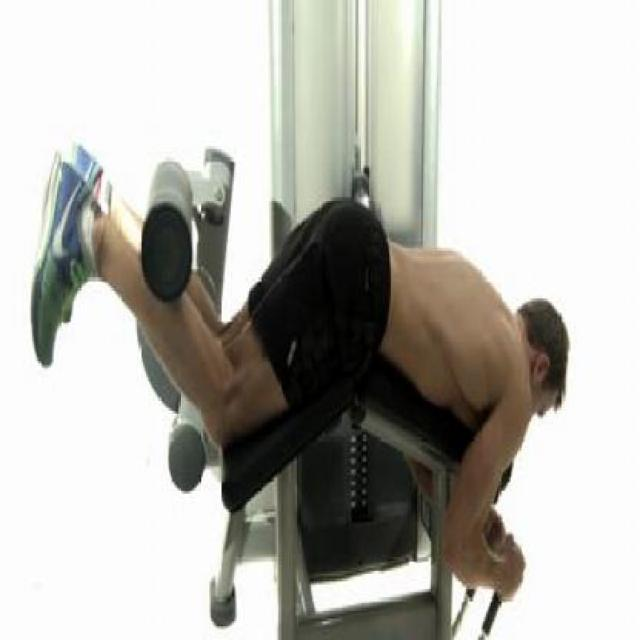reg curl machine: (28, 0, 572, 640)
